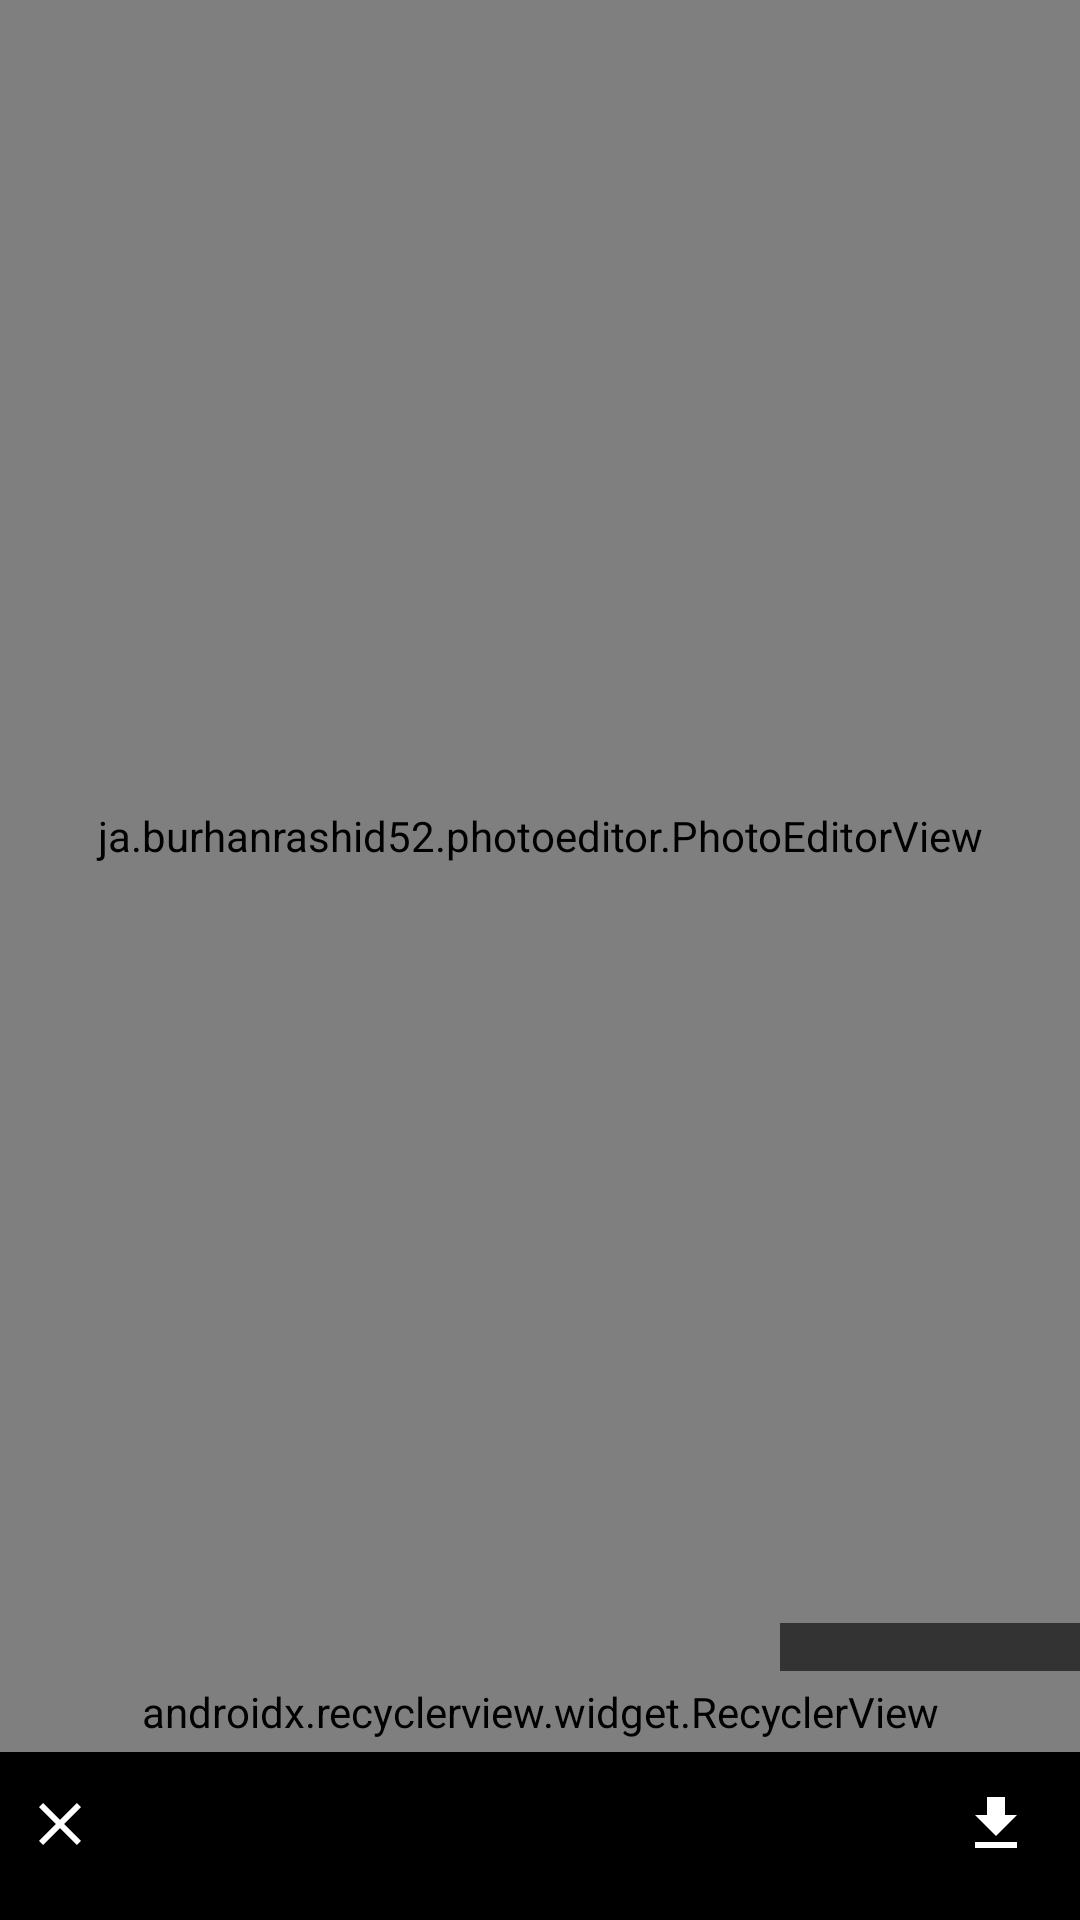

Named icons in this screenshot (1080px×1920px) and their centers, (x=x, y=y):
close: (x=60, y=1824)
save: (x=996, y=1822)
